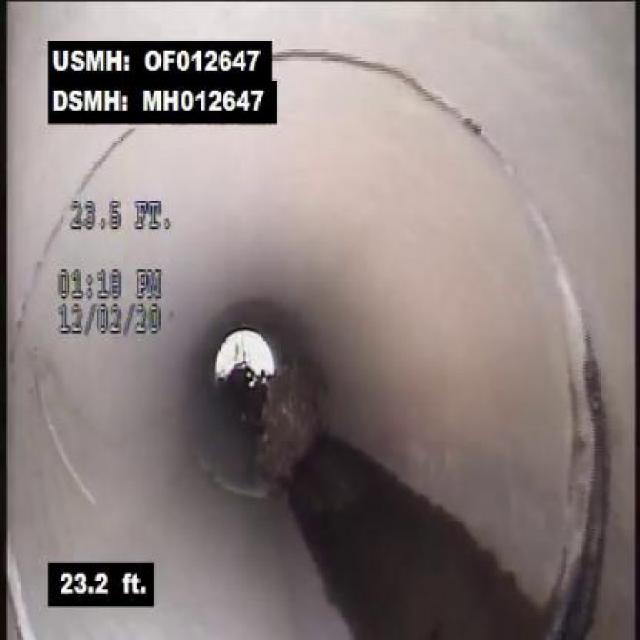Debris: (225, 343, 328, 503)
